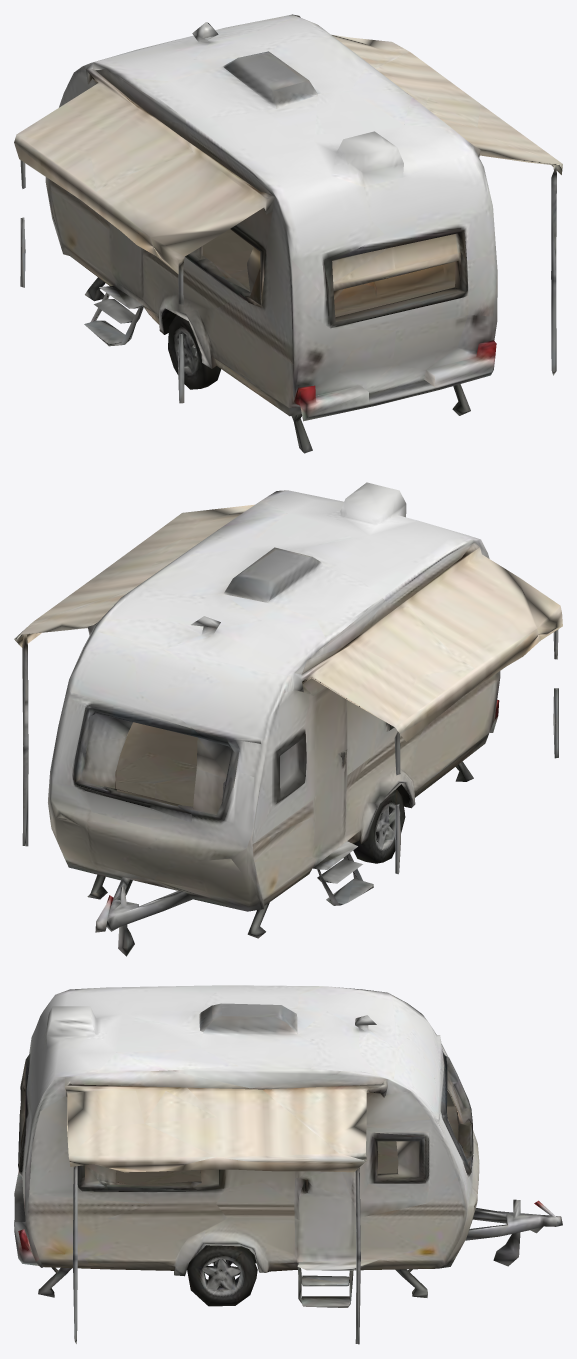
Rendered from zs_wohnwagen.glb.
3 views of the same model, one above another, from view 1: azimuth 30°, elevation 25°; view 2: azimuth 150°, elevation 25°; view 3: azimuth 270°, elevation 25° (orthographic). The views are drawn at different scales.
Visible parts, largest first — view 1: tripo_node_82c9d3da-6897-40db-9754-e28852a6ff4b; view 2: tripo_node_82c9d3da-6897-40db-9754-e28852a6ff4b; view 3: tripo_node_82c9d3da-6897-40db-9754-e28852a6ff4b.
Part boxes in pixels (x1=…): tripo_node_82c9d3da-6897-40db-9754-e28852a6ff4b: x1=14, y1=14, x2=562, y2=453; tripo_node_82c9d3da-6897-40db-9754-e28852a6ff4b: x1=14, y1=482, x2=562, y2=956; tripo_node_82c9d3da-6897-40db-9754-e28852a6ff4b: x1=14, y1=985, x2=562, y2=1344.
Size of the model in its own units: 0.7245 by 0.513 by 1.
Materials: 1 (1 with a texture image).
